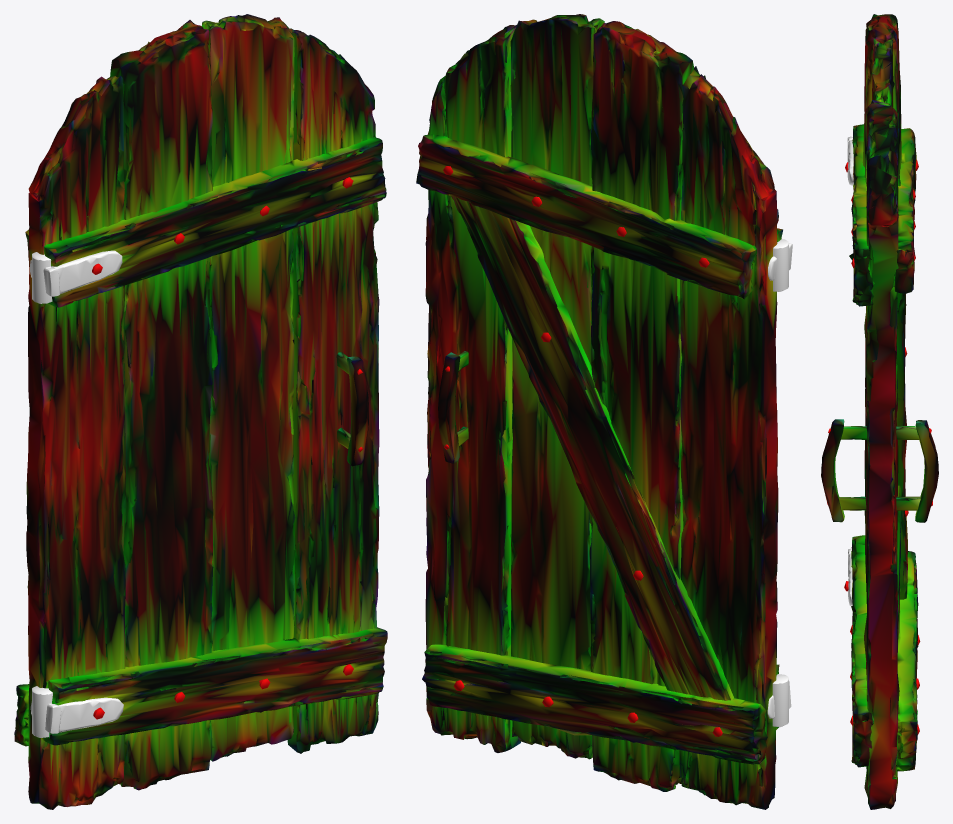
Rendered from SM_Wood_Door_Arc.fbx.
3 renders of one model, left to right at view 1: azimuth 30°, elevation 25°; view 2: azimuth 150°, elevation 25°; view 3: azimuth 270°, elevation 25°, orthographic. The views are drawn at different scales.
Visible parts, largest first — view 1: SM_Wood_Door_Arc_LOD0; view 2: SM_Wood_Door_Arc_LOD0; view 3: SM_Wood_Door_Arc_LOD0.
Boxes of the visible parts, box(x1,y1,x2,y2) form: SM_Wood_Door_Arc_LOD0: box(14, 14, 387, 809); SM_Wood_Door_Arc_LOD0: box(416, 14, 792, 809); SM_Wood_Door_Arc_LOD0: box(821, 14, 938, 809).
Bounding box in the file's own units: 109 × 34.05 × 225.
